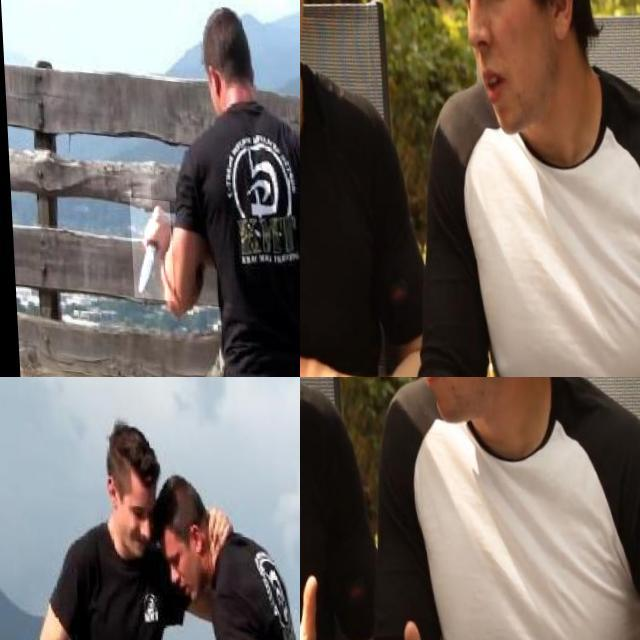-: (300, 14, 347, 192), (300, 446, 337, 587), (127, 195, 171, 298)
